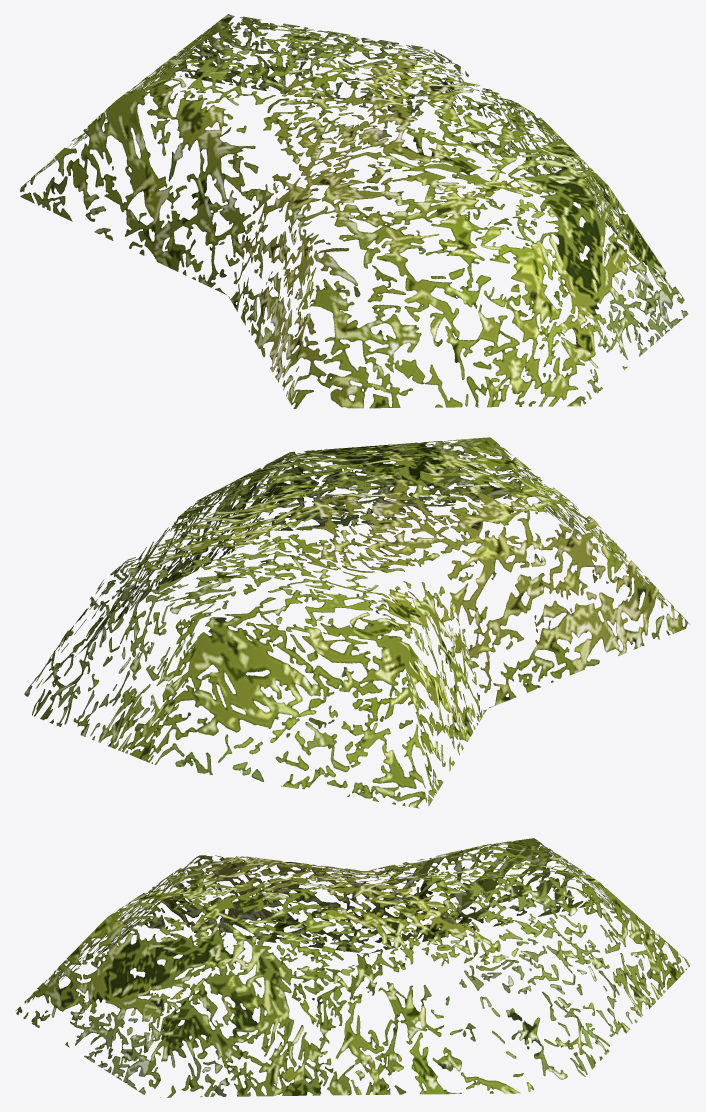
Rendered from Moss01.fbx.
3 renders of one model, top to bottom at view 1: azimuth 30°, elevation 25°; view 2: azimuth 150°, elevation 25°; view 3: azimuth 270°, elevation 25°, orthographic. The views are drawn at different scales.
Parts seen in each view (by area): view 1: Moss01; view 2: Moss01; view 3: Moss01.
Part boxes in pixels (x1,y1,x2,y2): Moss01: [20, 14, 688, 408]; Moss01: [24, 437, 689, 808]; Moss01: [16, 838, 689, 1097].
Size of the model in its own units: 3.92 by 1.42 by 6.25.
1 material, 1 textured.
